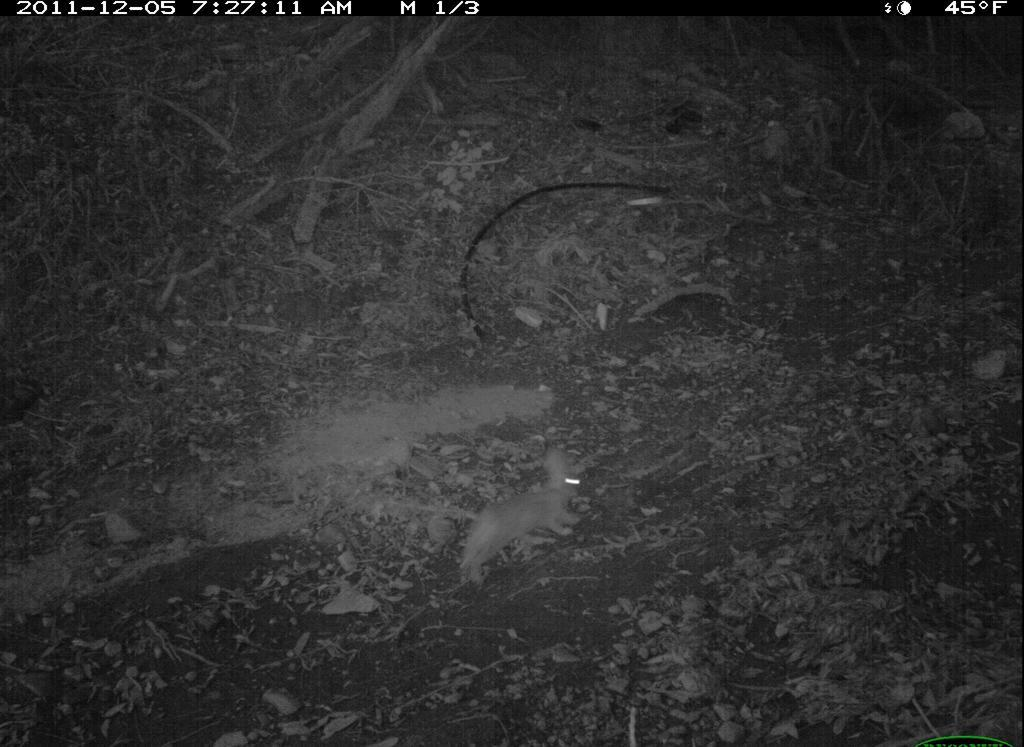rabbit: (445, 442, 600, 589)
